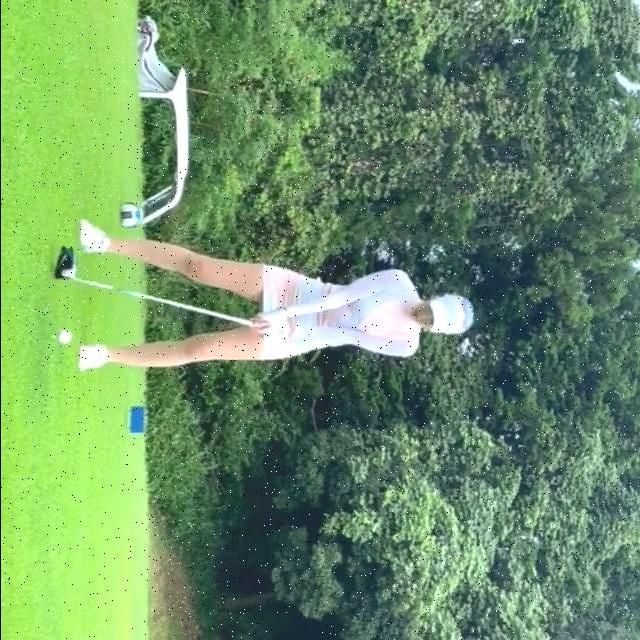ClubHandle: (52, 248, 256, 326)
